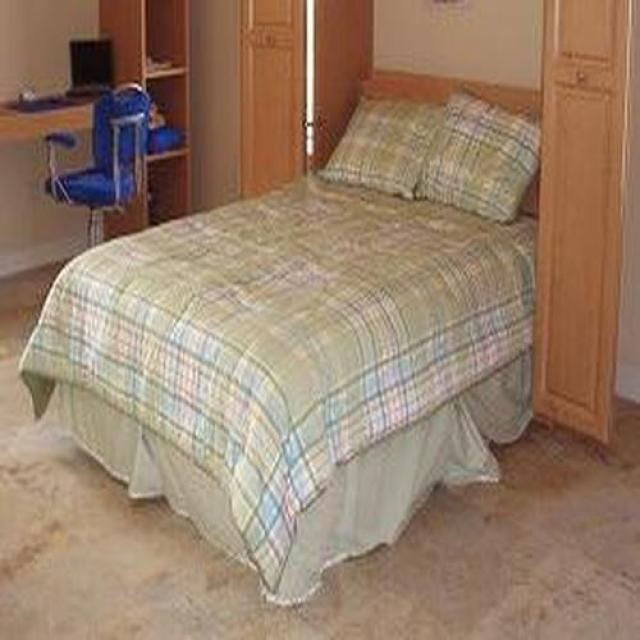bed: (18, 72, 541, 608)
